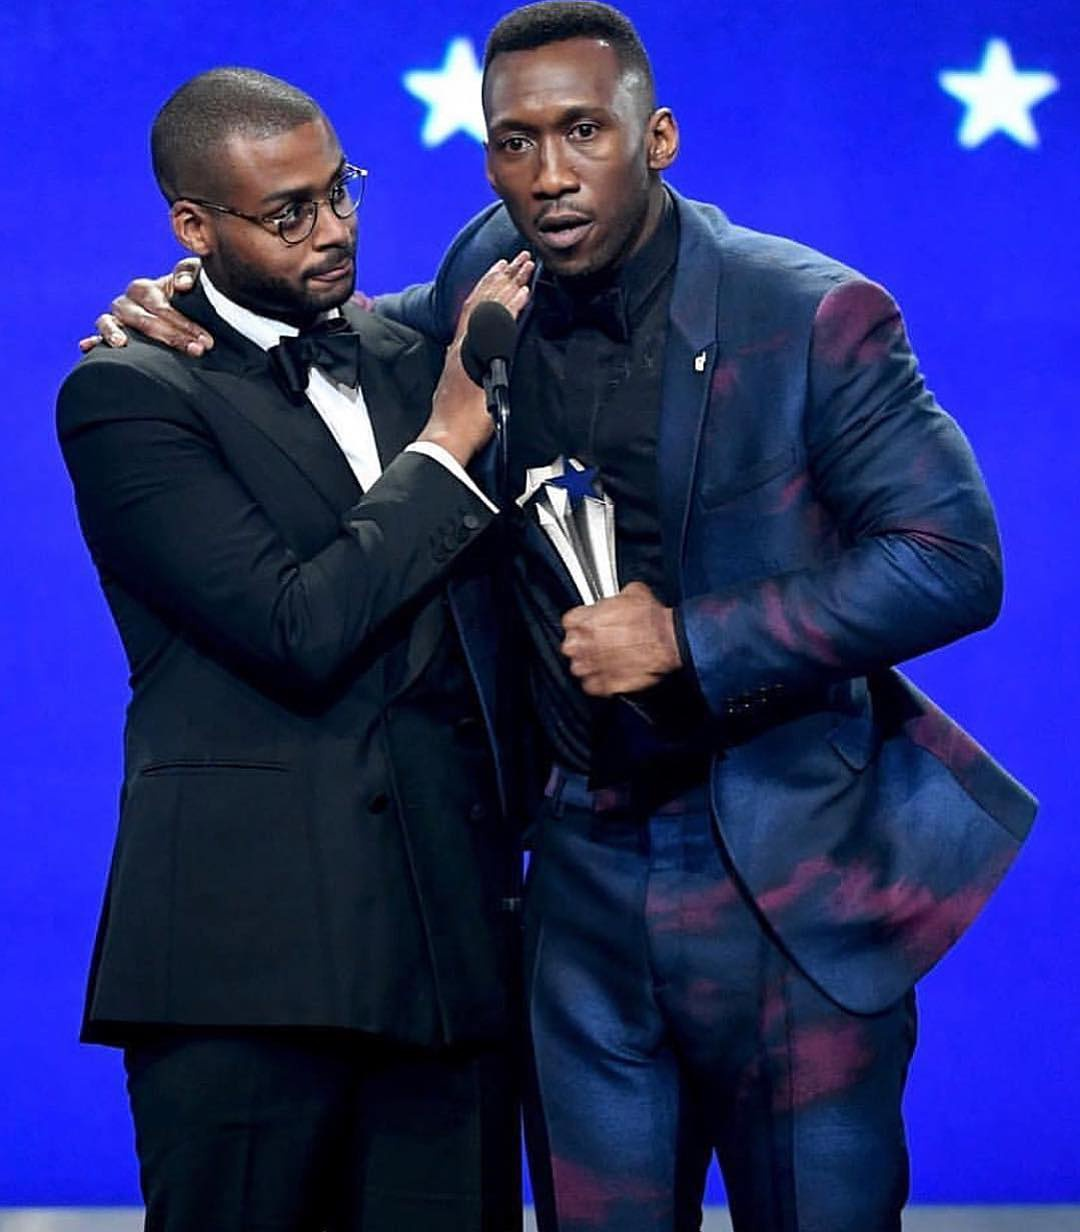hand: (429, 262, 564, 443)
